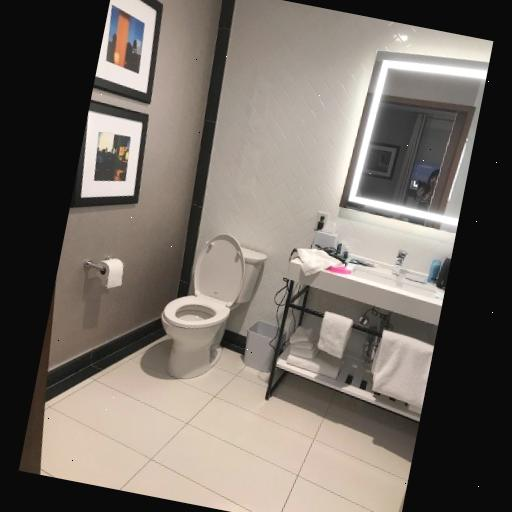clean mirror: (344, 50, 490, 236)
clean_floor: (44, 343, 412, 512)
clean_toilet: (147, 230, 268, 394)
folded_towel: (370, 329, 438, 413), (313, 308, 357, 360)
